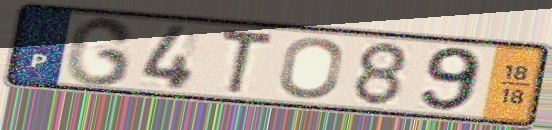4: (139, 23, 197, 92)
8: (349, 39, 413, 108)
9: (417, 45, 486, 114)
G: (61, 14, 138, 89)
O: (276, 35, 347, 101)
T: (216, 25, 276, 98)
